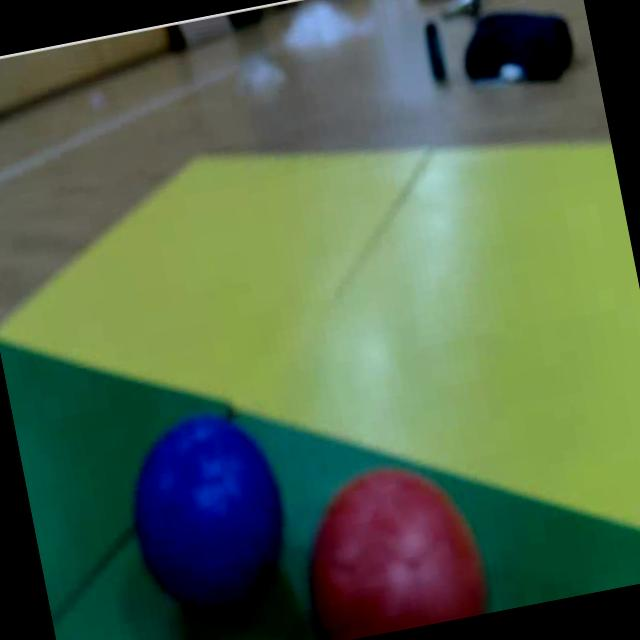blue_ball: (116, 401, 300, 620)
red_ball: (284, 452, 497, 640)
